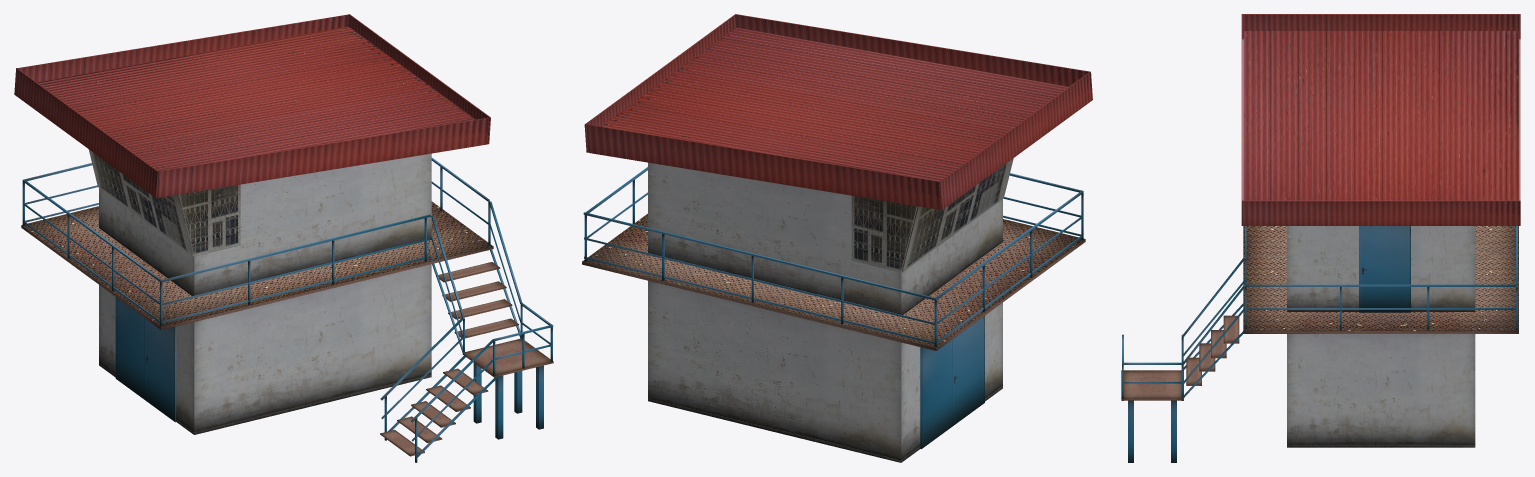
Rendered from r254_isilkul_dps.FBX.
3 renders of one model, left to right at view 1: azimuth 30°, elevation 25°; view 2: azimuth 150°, elevation 25°; view 3: azimuth 270°, elevation 25°, orthographic. The views are drawn at different scales.
Parts seen in each view (by area): view 1: r254_isilkul_dps; view 2: r254_isilkul_dps; view 3: r254_isilkul_dps.
Boxes of the visible parts, left/top/right/bottom form: r254_isilkul_dps: left=14, top=14, right=553, bottom=462; r254_isilkul_dps: left=582, top=14, right=1092, bottom=462; r254_isilkul_dps: left=1121, top=14, right=1520, bottom=462.
Bounding box in the file's own units: 6.57 × 6.81 × 5.47.
